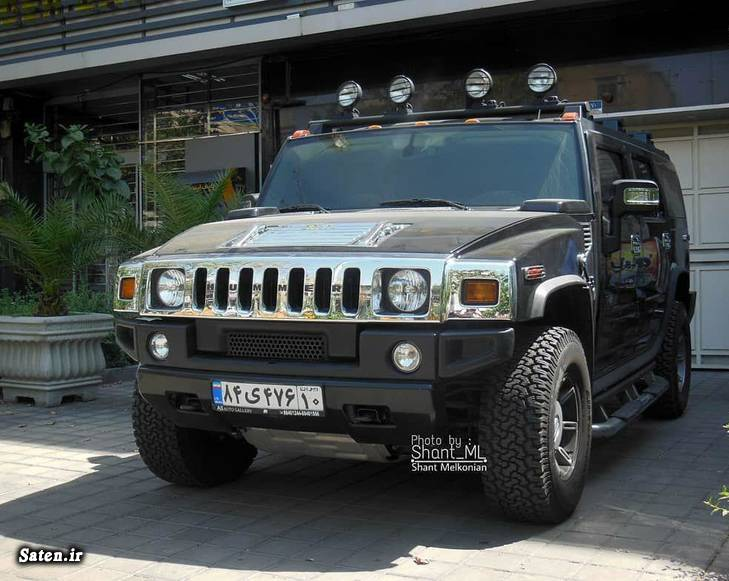car: (209, 381, 326, 418)
